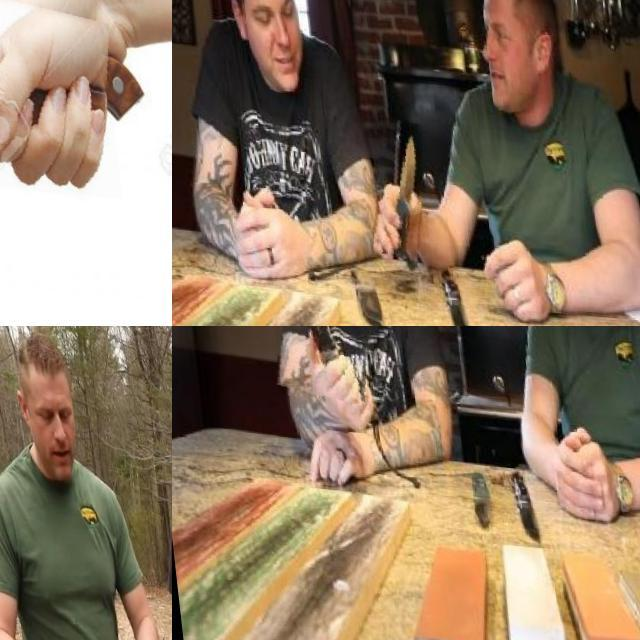-: (0, 0, 172, 189), (357, 110, 423, 256), (260, 326, 373, 407)
